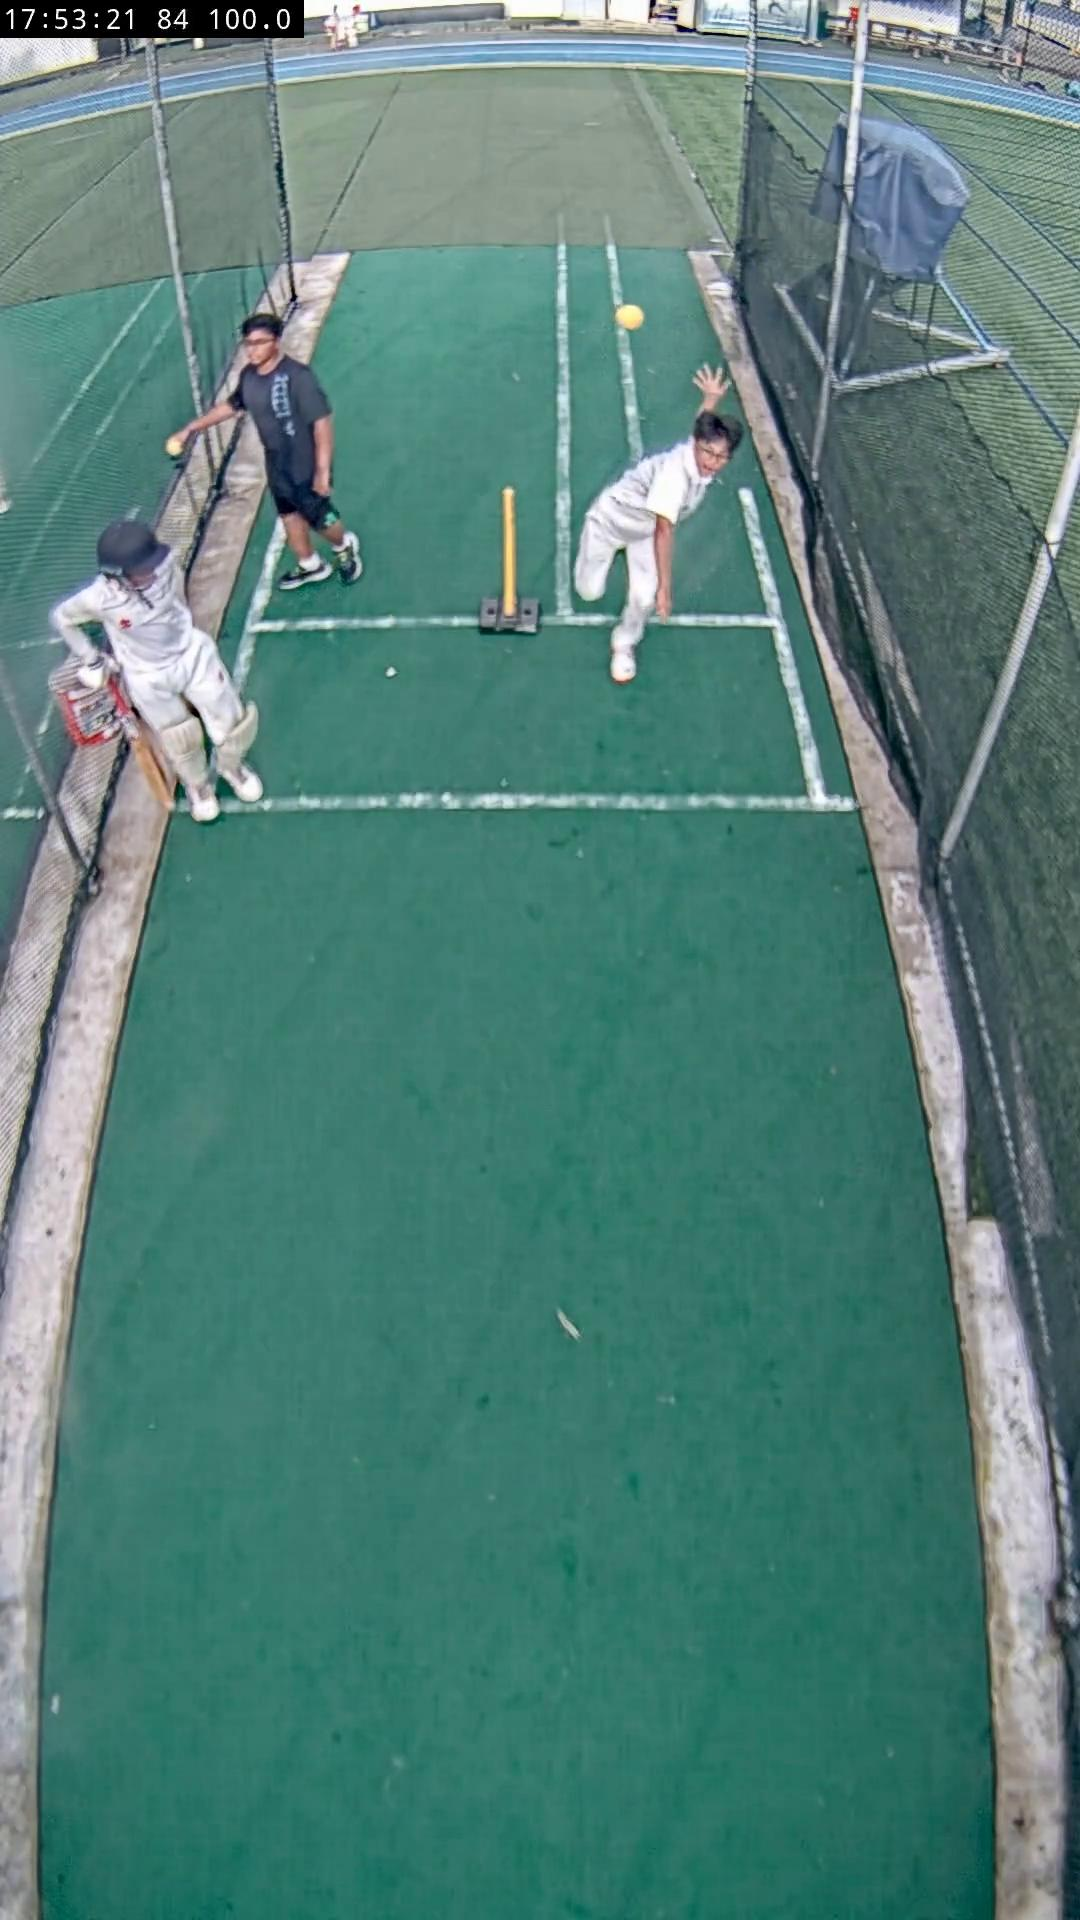ball: (615, 303, 645, 330)
stumps: (480, 488, 541, 634)
